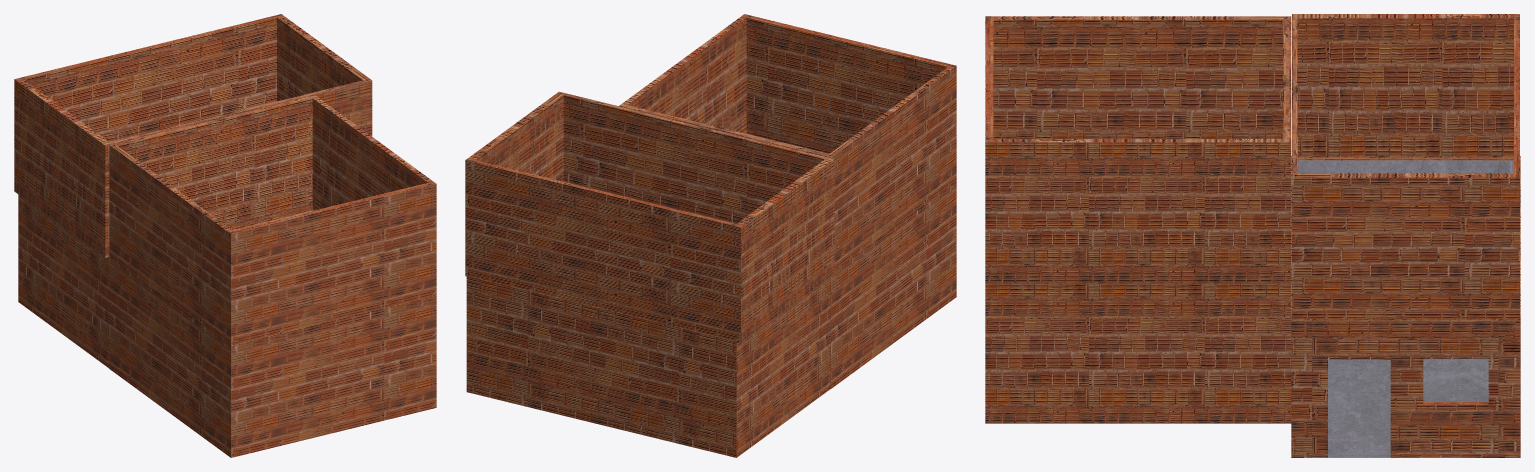
File: casaemobra3.glb
3 renders of one model, left to right at view 1: azimuth 30°, elevation 25°; view 2: azimuth 150°, elevation 25°; view 3: azimuth 270°, elevation 25°, orthographic. The views are drawn at different scales.
Parts seen in each view (by area): view 1: Plano.002, Plano.001, Plano.003, Plano; view 2: Plano.003, Plano, Plano.002, Plano.001; view 3: Plano.002, Plano.003, Plano.001, Plano.
Boxes of the visible parts, x1=… form: Plano.002: x1=109, y1=94, x2=436, y2=345; Plano.001: x1=109, y1=210, x2=436, y2=457; Plano.003: x1=14, y1=14, x2=372, y2=257; Plano: x1=18, y1=194, x2=109, y2=368; Plano.003: x1=465, y1=91, x2=834, y2=343; Plano: x1=466, y1=275, x2=830, y2=457; Plano.002: x1=619, y1=14, x2=956, y2=269; Plano.001: x1=746, y1=133, x2=956, y2=388; Plano.002: x1=985, y1=16, x2=1291, y2=283; Plano.003: x1=1292, y1=14, x2=1519, y2=318; Plano.001: x1=985, y1=282, x2=1291, y2=423; Plano: x1=1291, y1=156, x2=1520, y2=457.
Bounding box in the file's own units: 10.14 × 8.12 × 14.
9 materials, 8 textured.
